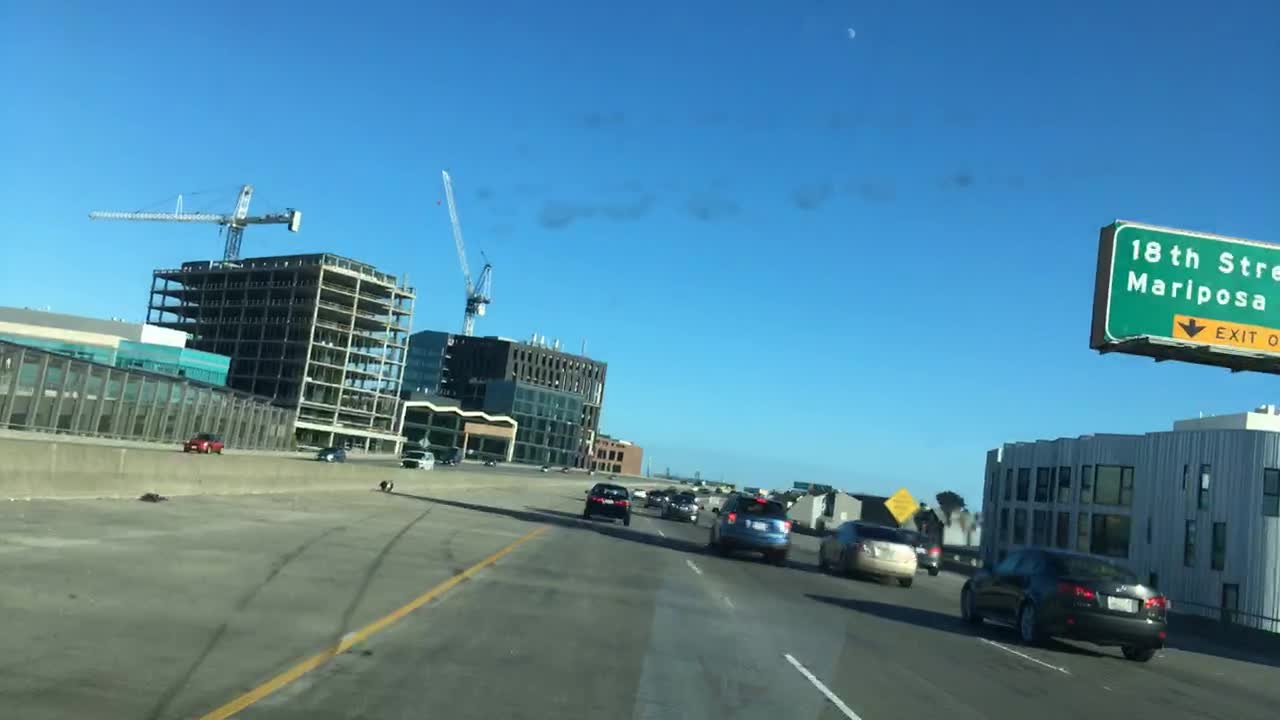car: (955, 542, 1173, 665), (814, 518, 924, 590), (702, 490, 794, 561), (578, 477, 633, 526), (901, 529, 943, 576), (657, 486, 703, 526), (181, 429, 225, 455), (397, 447, 436, 469), (314, 443, 347, 463), (437, 444, 463, 463), (642, 487, 665, 508), (629, 483, 647, 502), (482, 456, 500, 469), (537, 463, 549, 475), (586, 466, 596, 480), (558, 465, 571, 475), (607, 472, 619, 481)
traffic sign: (1085, 218, 1277, 376), (880, 486, 920, 524)
